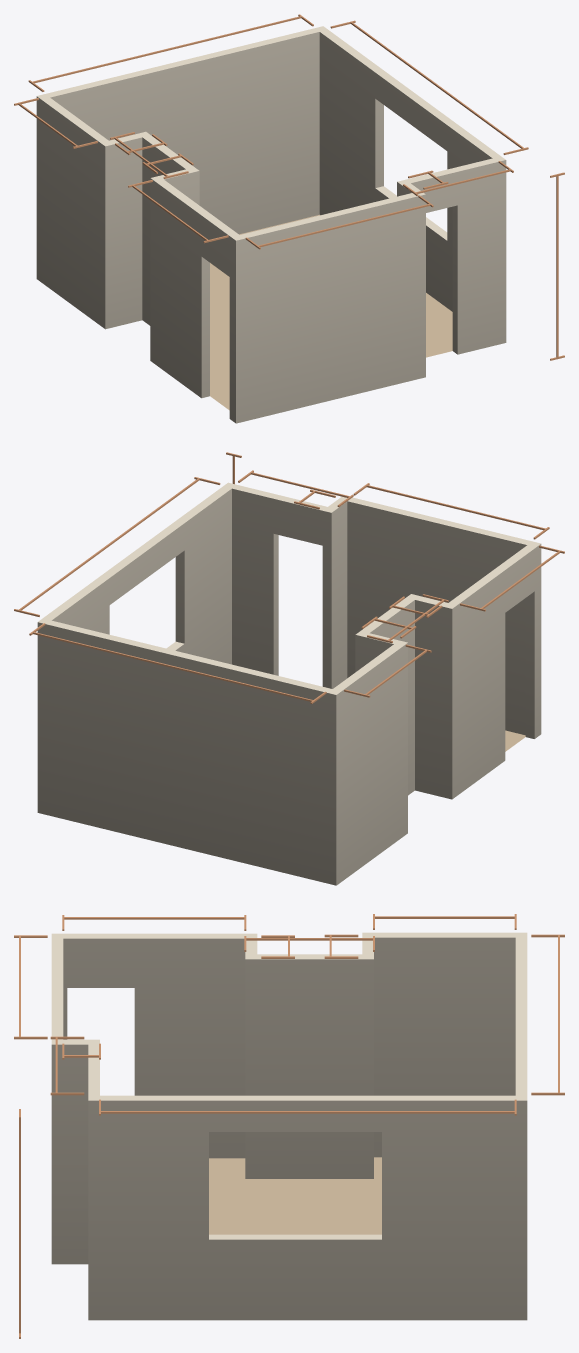
Rendered from room-living.glb.
The picture shows the model from 3 angles, top to bottom: view 1: azimuth 30°, elevation 25°; view 2: azimuth 150°, elevation 25°; view 3: azimuth 270°, elevation 25°; orthographic projection. The views are drawn at different scales.
Visible parts, largest first — view 1: living; view 2: living; view 3: living.
Part boxes in pixels (x1,y1,x2,y2): living: (14, 14, 564, 423); living: (14, 452, 564, 885); living: (14, 914, 564, 1338).
Size of the model in its own units: 4.82 by 2.49 by 5.57.
